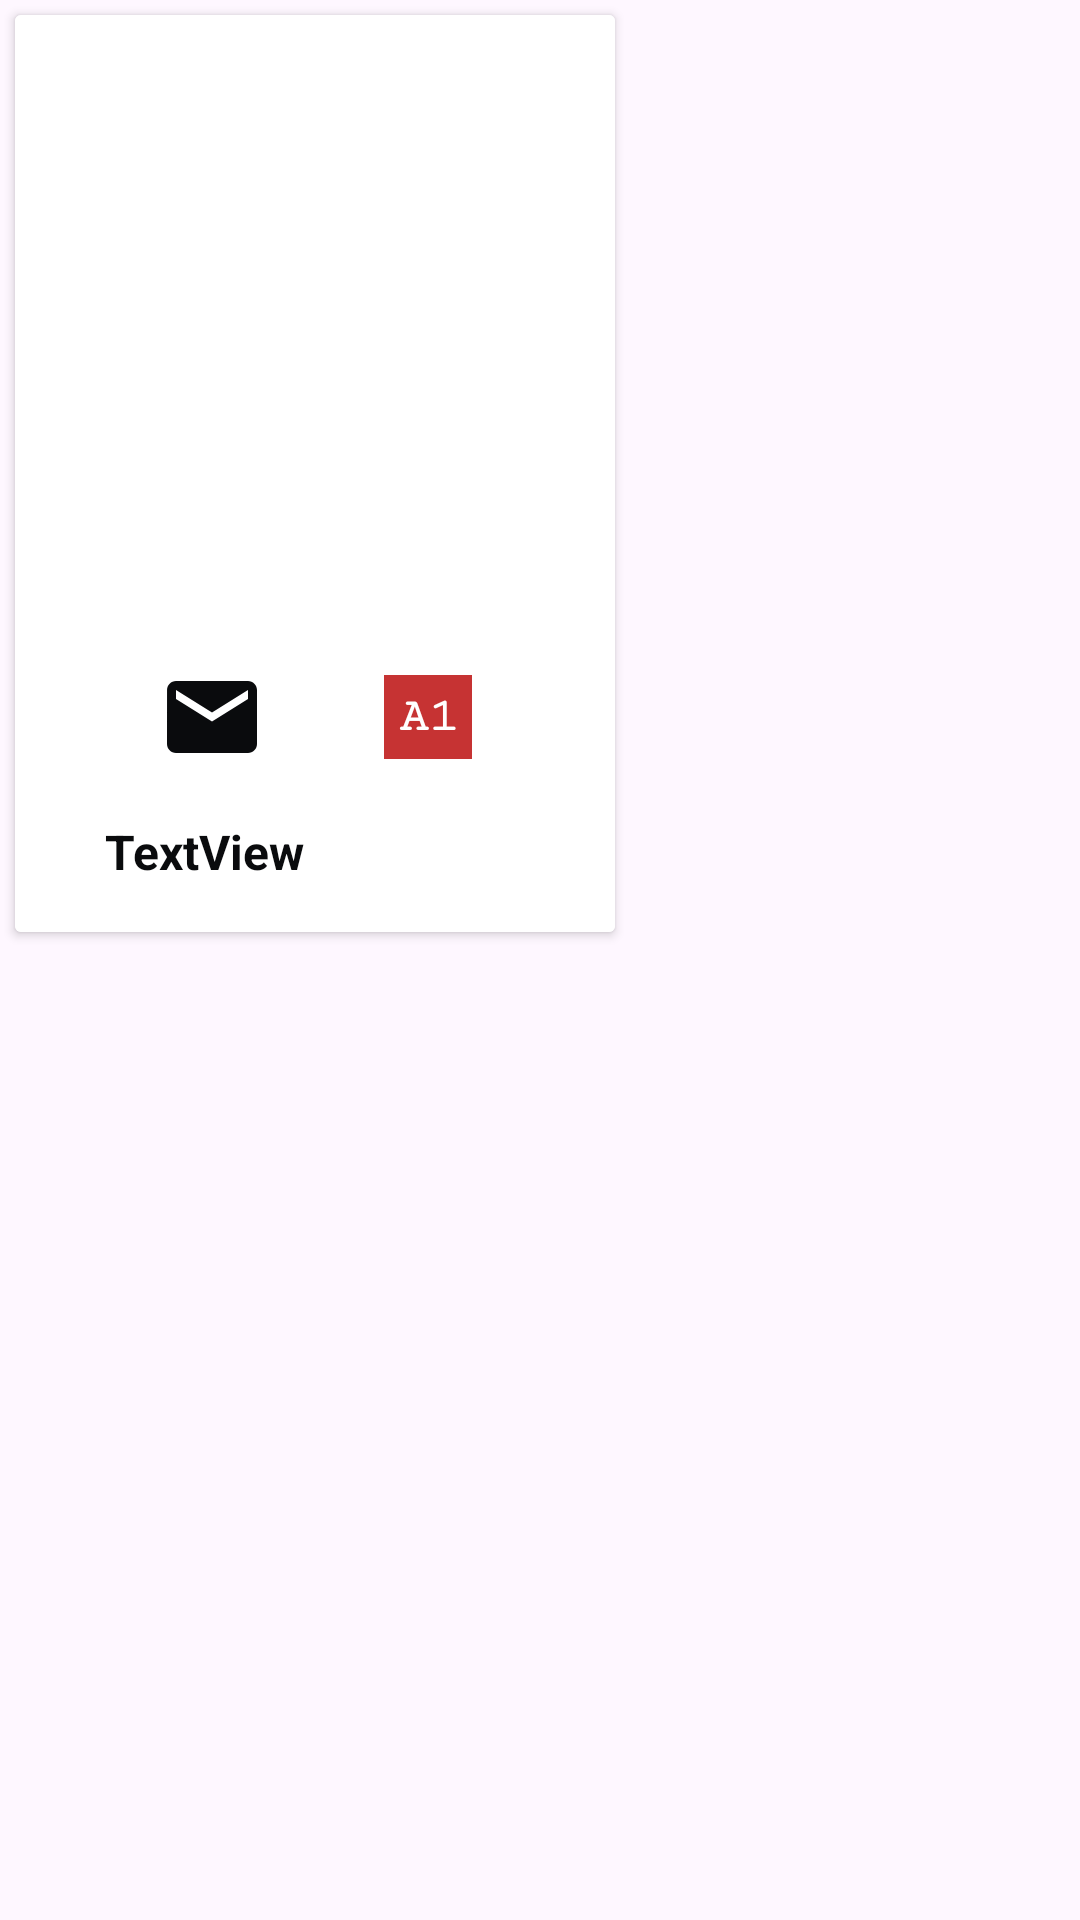

Named icons in this screenshot (1080*1920) and their bounding boxes, (x1=x1, y1=y1, x2=x2, y2=y2):
markunread: (x1=167, y1=681, x2=257, y2=753)
